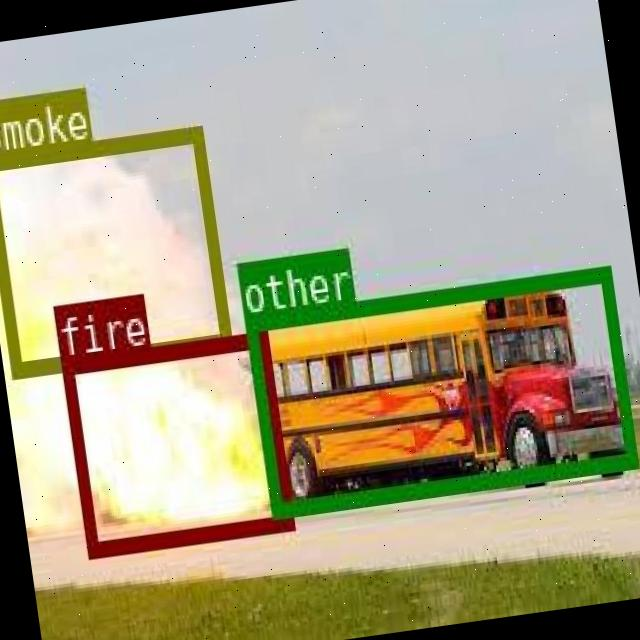fire: (59, 331, 292, 554)
smoke: (0, 123, 230, 375)
